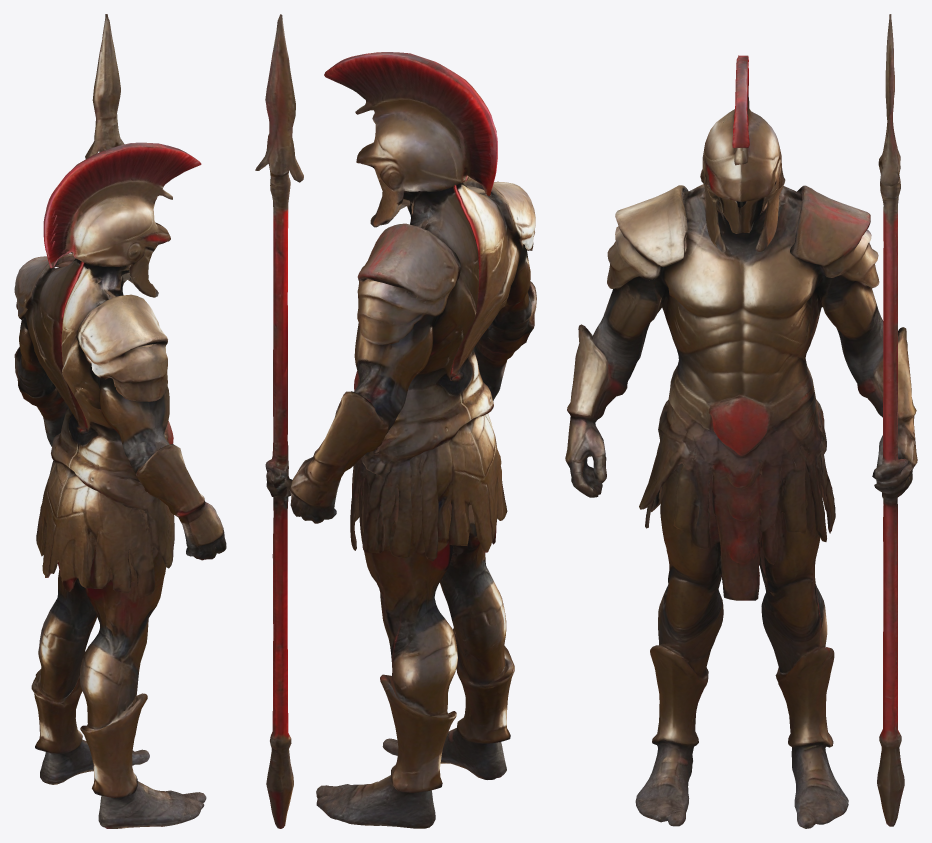
The model's file is 300_spartans.glb.
The picture shows the model from 3 angles, left to right: view 1: azimuth 30°, elevation 25°; view 2: azimuth 150°, elevation 25°; view 3: azimuth 270°, elevation 25°; orthographic projection. The views are drawn at different scales.
Visible parts, largest first — view 1: Object_4; view 2: Object_4; view 3: Object_4.
Part boxes in pixels (<box>): Object_4: <box>14,14,226,828</box>; Object_4: <box>255,14,536,828</box>; Object_4: <box>565,14,917,828</box>.
Size of the model in its own units: 1.04 by 4.71 by 1.85.
1 material, 1 textured.
